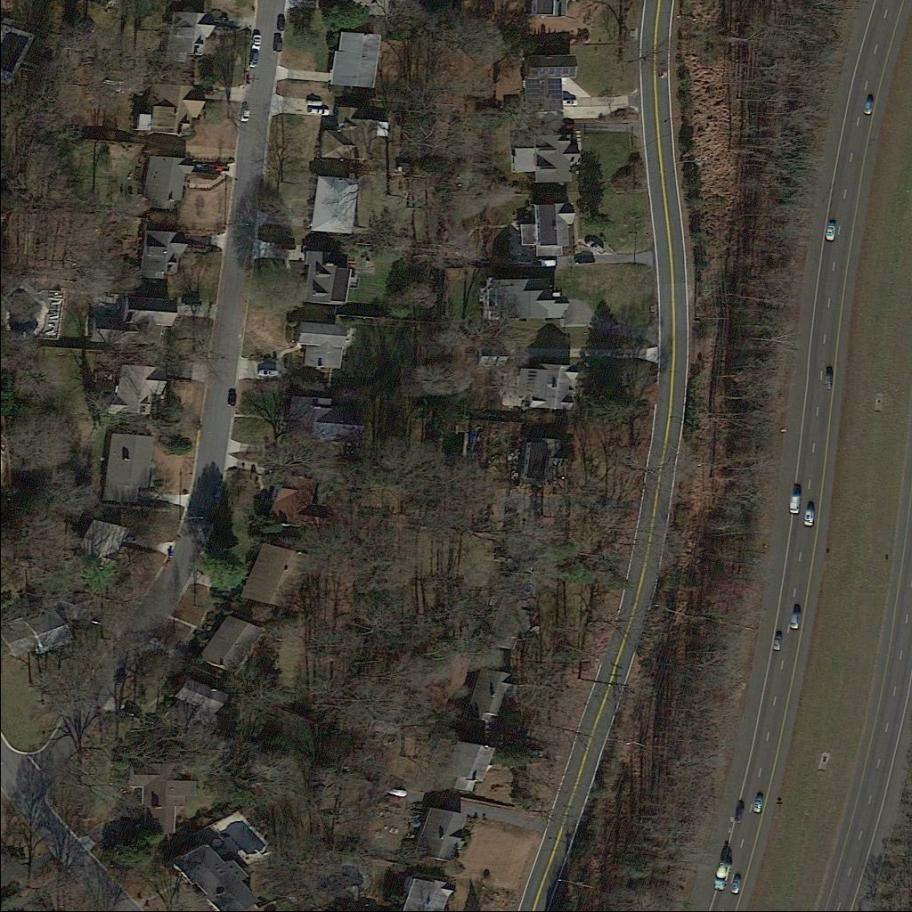large-vehicle: (712, 861, 733, 893)
small-vehicle: (584, 237, 607, 258), (789, 610, 804, 631), (862, 97, 877, 118), (733, 803, 746, 825), (789, 494, 802, 516), (729, 876, 743, 896), (802, 508, 816, 528), (825, 222, 838, 242), (250, 34, 264, 52), (273, 33, 285, 53), (226, 389, 238, 409), (752, 795, 764, 815), (772, 634, 785, 652), (574, 255, 596, 265), (249, 51, 261, 69), (183, 297, 202, 307), (258, 370, 279, 378), (240, 108, 251, 123), (561, 98, 579, 107), (278, 14, 286, 30), (825, 375, 833, 390), (310, 109, 330, 115), (307, 100, 323, 107)
